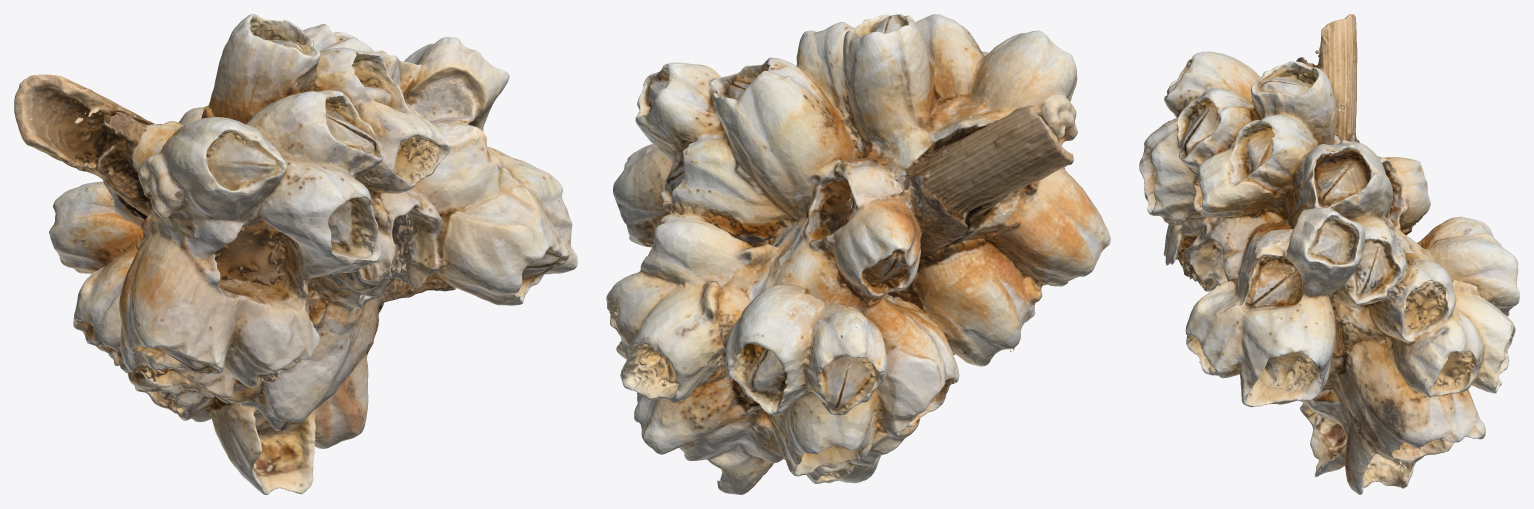
File: MZUR3D-010.glb
The picture shows the model from 3 angles, left to right: view 1: azimuth 30°, elevation 25°; view 2: azimuth 150°, elevation 25°; view 3: azimuth 270°, elevation 25°; orthographic projection. The views are drawn at different scales.
Parts seen in each view (by area): view 1: MZUR3D-010; view 2: MZUR3D-010; view 3: MZUR3D-010.
Boxes of the visible parts, bbox=[...] form: MZUR3D-010: bbox=[14, 14, 577, 494]; MZUR3D-010: bbox=[606, 14, 1110, 494]; MZUR3D-010: bbox=[1139, 14, 1519, 494].
Bounding box in the file's own units: 1.98 × 1.83 × 1.62.
1 material, 1 textured.
